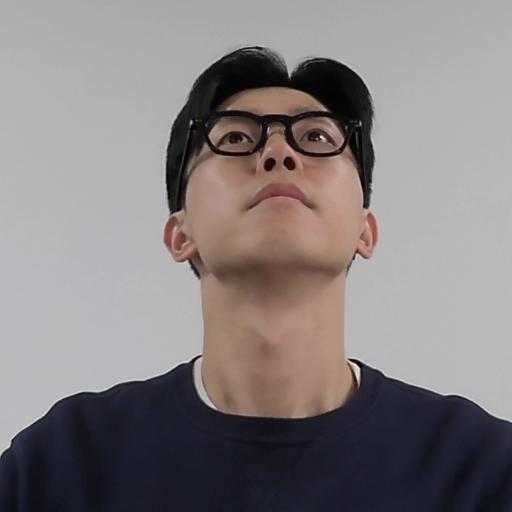no_glasses: (158, 45, 385, 307)
